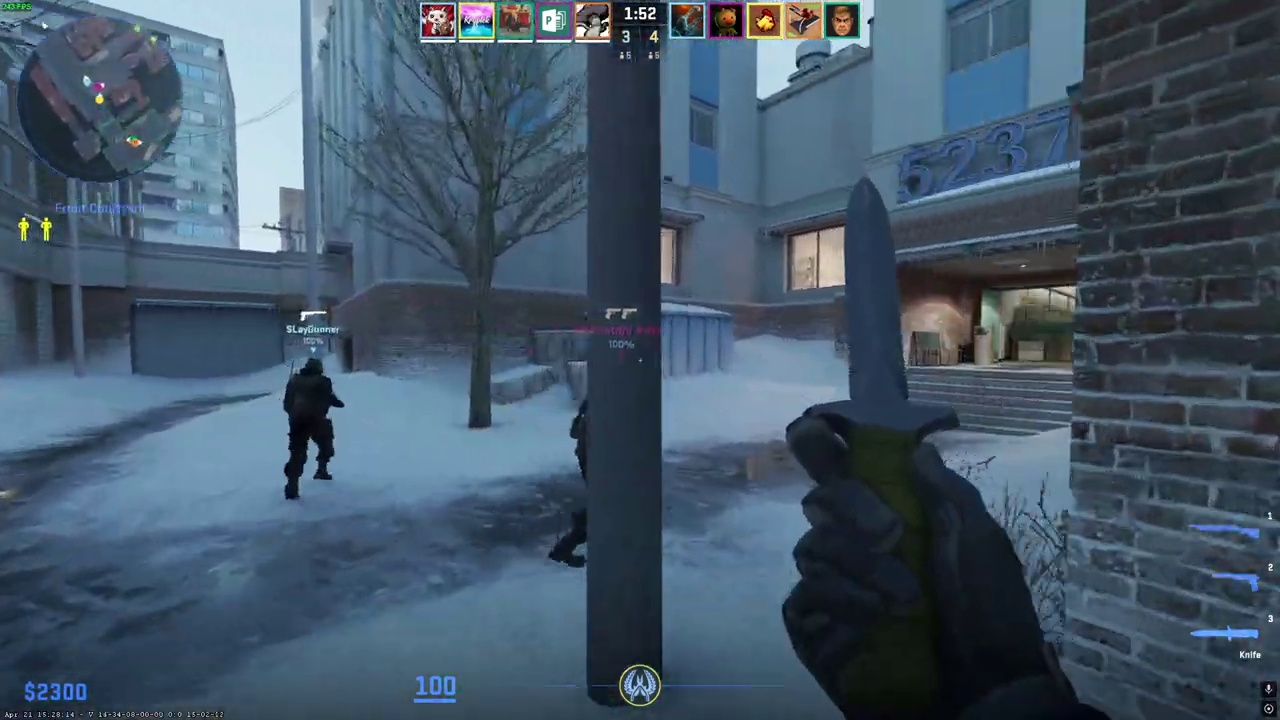CT: (281, 358, 341, 499)
